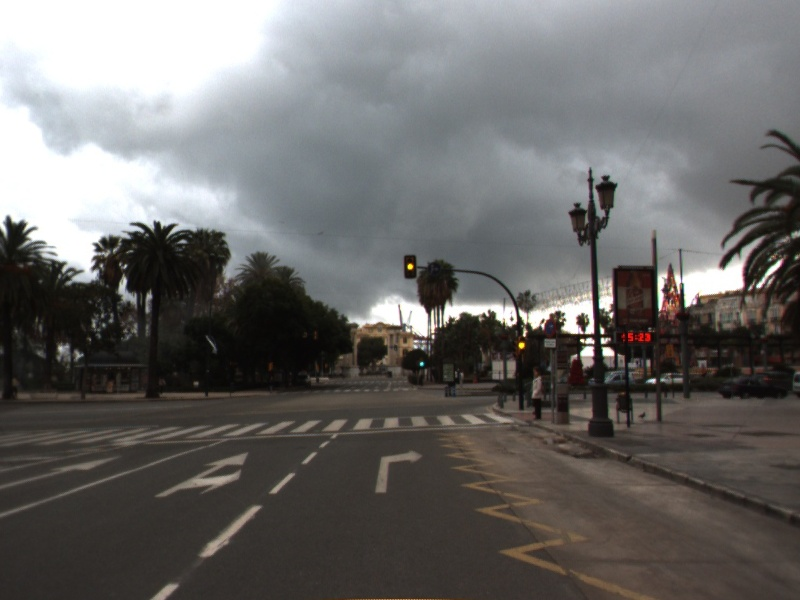RIGHT: (372, 446, 425, 495)
STRAIGHT: (1, 453, 123, 491)
STRAIGHT_RIGHT: (152, 449, 251, 500)
